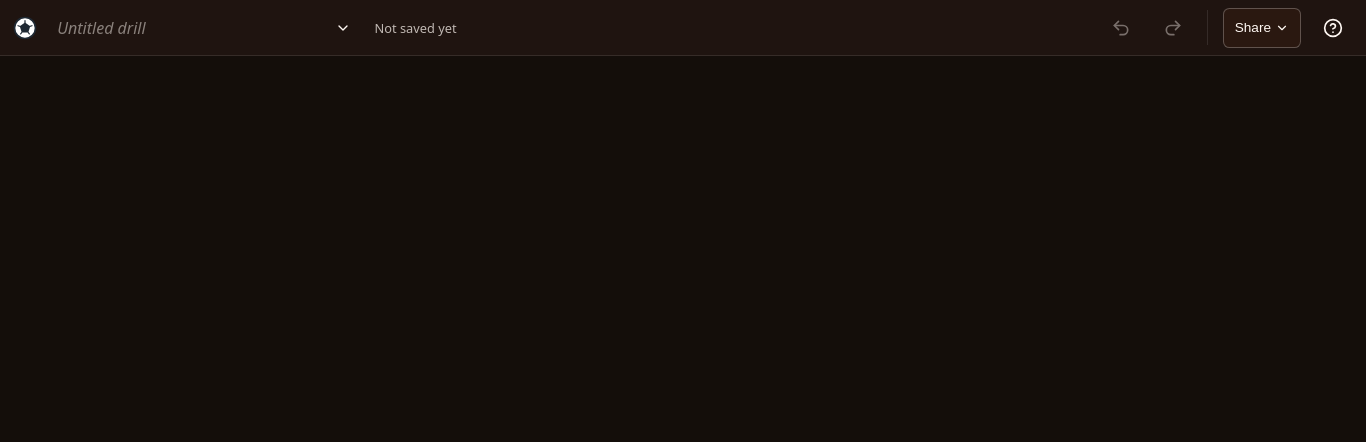
the drill menu › keeps its items out of the way until it is opened
This screenshot has width=1366, height=442.
Click the button named "Drill menu" at (343, 28), box [323,8,363,48]
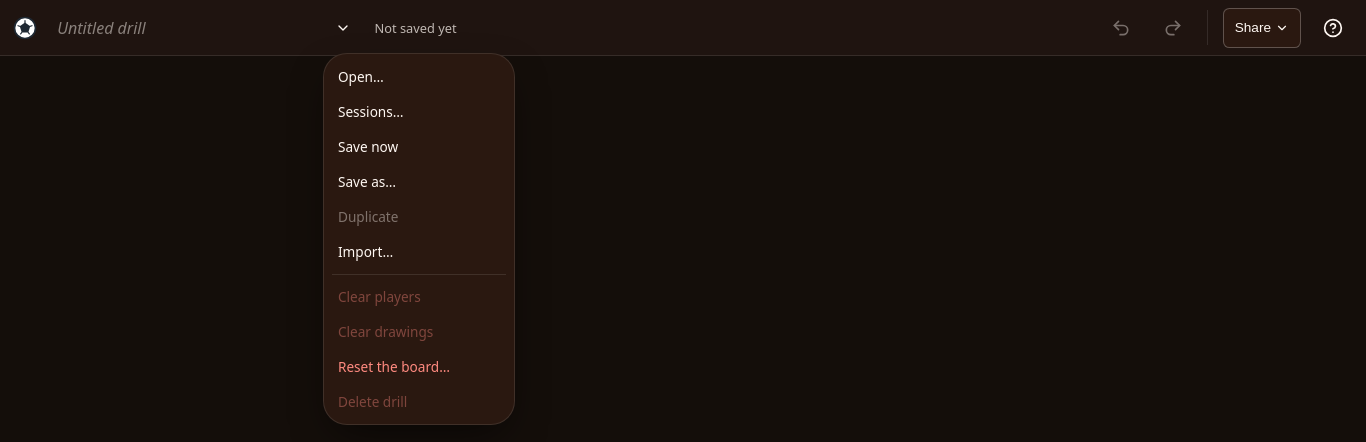
Expected: the menu item "Save now" is shown, [328,129,509,164]
